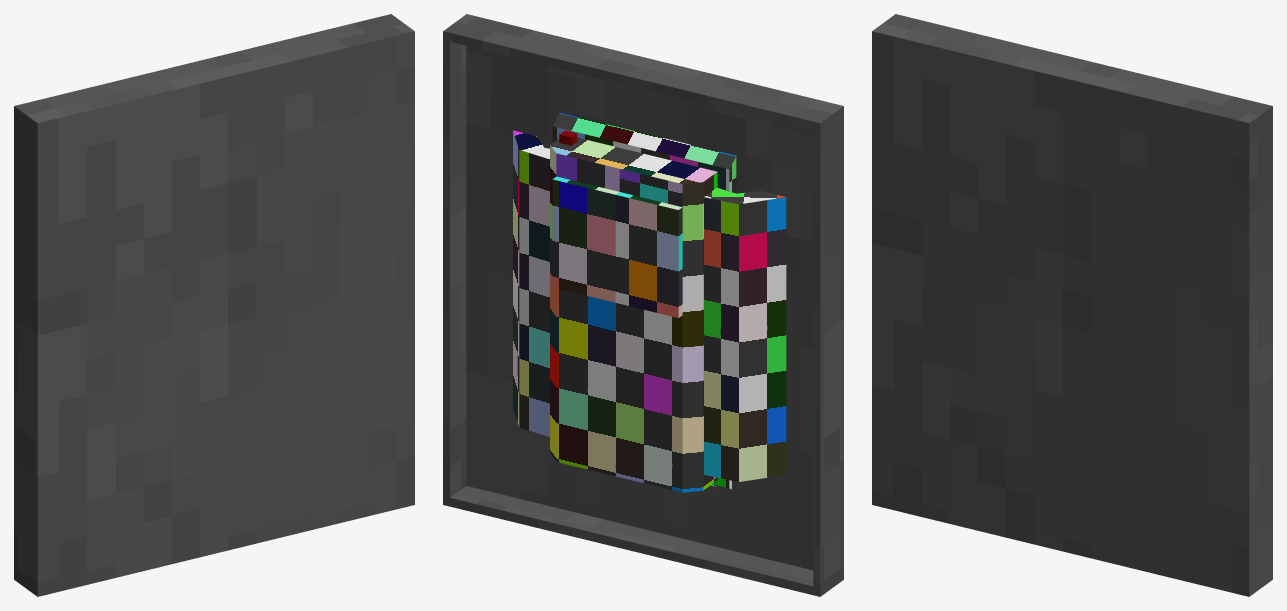
The model's file is power_panel.obj.
3 renders of one model, left to right at view 1: azimuth 30°, elevation 25°; view 2: azimuth 150°, elevation 25°; view 3: azimuth 330°, elevation 25°, orthographic.
Parts seen in each view (by area): view 1: Cube_box; view 2: Cube_box, Cube_panel; view 3: Cube_box.
Part boxes in pixels (x1,y1,x2,y2): Cube_box: [14, 14, 414, 596]; Cube_box: [443, 14, 843, 596]; Cube_panel: [513, 113, 786, 492]; Cube_box: [872, 14, 1272, 596].
Size of the model in its own units: 0.6 by 0.72 by 0.1094.
